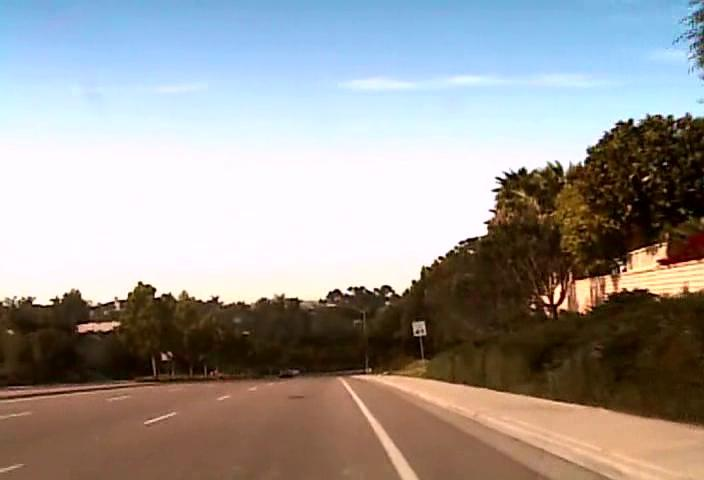speedLimitUrdbl: (412, 320, 426, 337)
